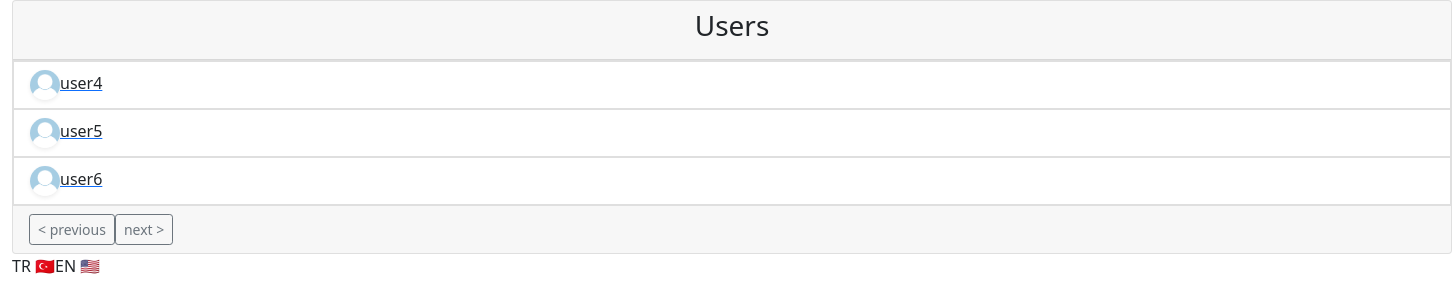
Test: User List › i18n › displays header and nav links in turkish after selecting the language
The image size is (1452, 293).
Check: the list item "user4" is shown, box [13, 61, 1451, 109]
Click the text titled "Turkish" at coordinates (34, 266), box [12, 255, 55, 277]
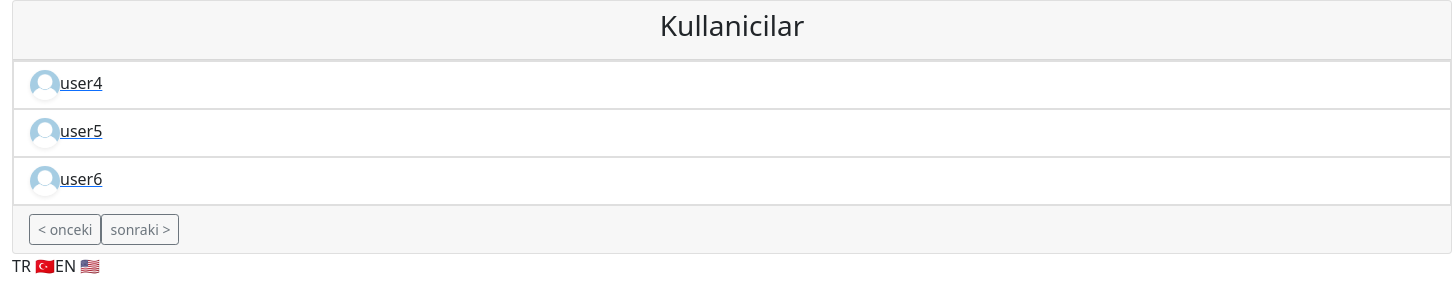
Check: the heading "Kullanicilar" is shown, box [660, 6, 804, 44]
Check: the button "sonraki >" is shown, box [102, 214, 179, 245]
Check: the button "< onceki" is shown, box [29, 214, 102, 245]
